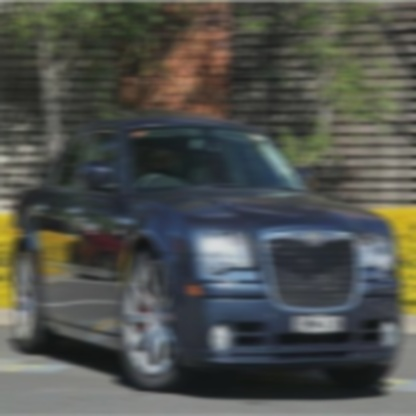Vehicle: (11, 110, 405, 394)
